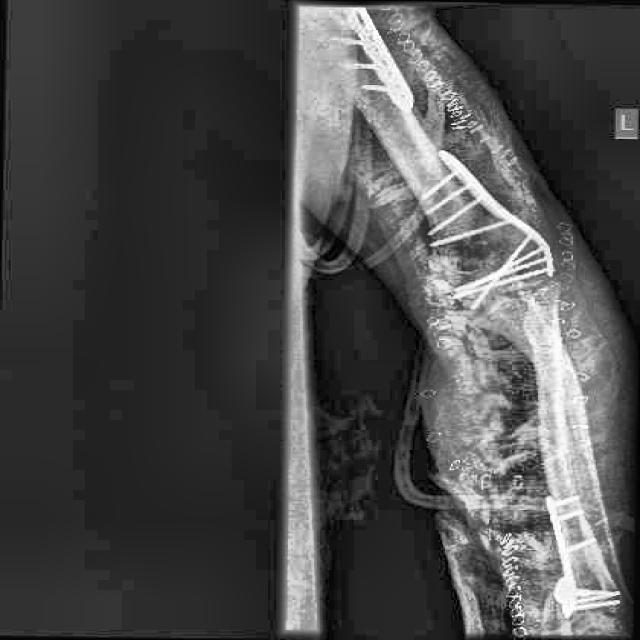elbow positive: (410, 223, 517, 317)
